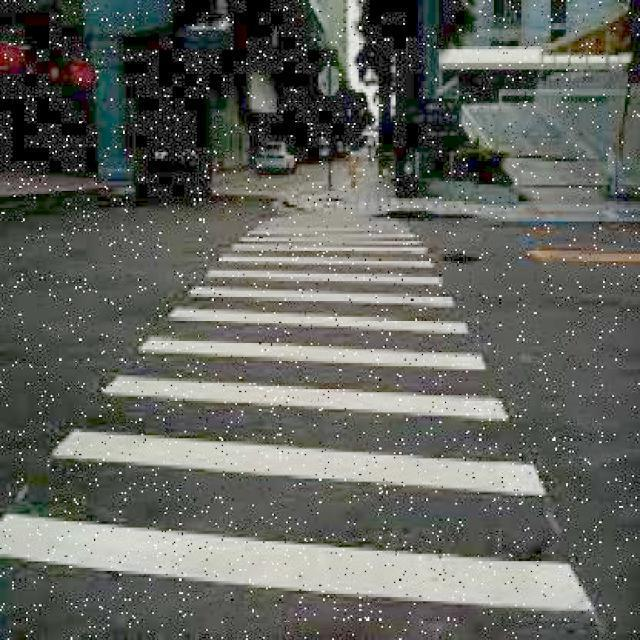Pedestrian crosswalk: (1, 211, 590, 614)
